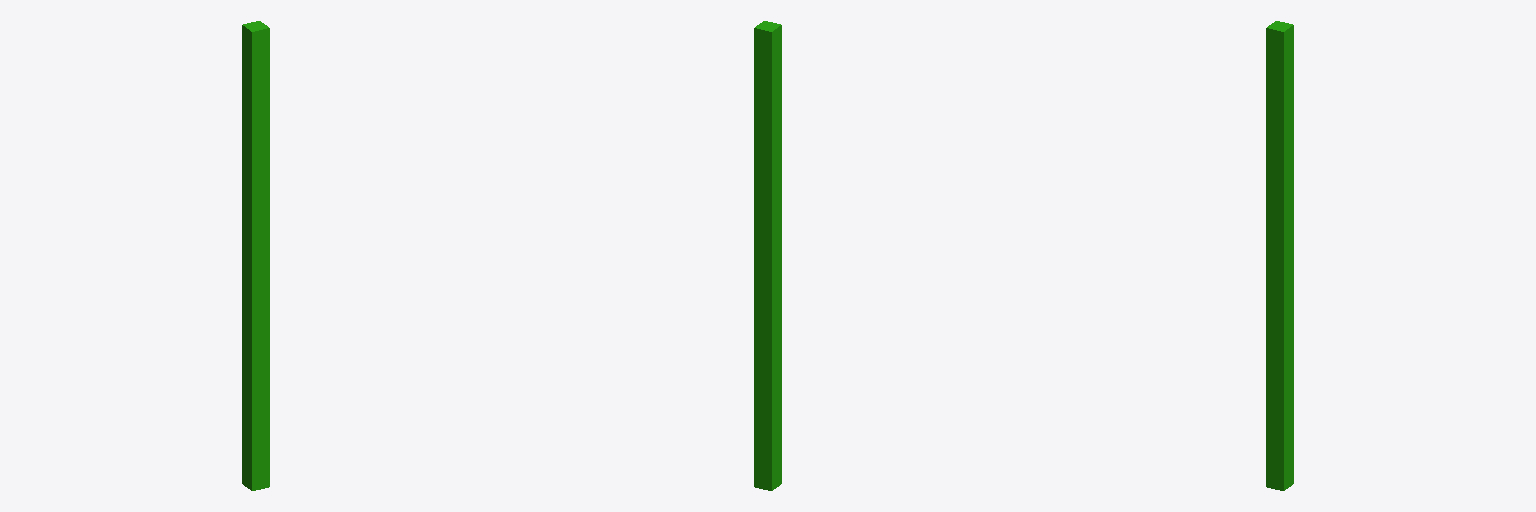
The robot description file, URDF, robot "pole":
<?xml version="1.0"?>
<robot name="pole">
  <link name="baseLink">
    <contact>
      <lateral_friction value="1.0"/>
      <rolling_friction value="0.0"/>
      <inertia_scaling value="3.0"/>
      <contact_cfm value="0.0"/>
      <contact_erp value="1.0"/>
    </contact>
    <inertial>
      <origin rpy="0 0 0" xyz="0 0 0"/>
      <mass value="5"/>
      <inertia ixx="1" ixy="0" ixz="0" iyy="1" iyz="0" izz="1"/>
    </inertial>
    <visual>
      <origin rpy="0 0 0" xyz="0.0 0.0 0.0"/>
      <geometry>
        <box size="0.02 0.02 0.5"/>
      </geometry>
      <material name="blockmat">
        <color rgba="0.2 0.7 0.1 1"/>
      </material>
    </visual>
    <collision>
      <origin rpy="0 0 0" xyz="0.0 0.0 0.0"/>
      <geometry>
        <box size="0.02 0.02 0.5"/>
      </geometry>
    </collision>
  </link>
</robot>

--- What the picture shows (computed from the rendered views, not written in the file) ---
The picture shows the robot from 3 angles, left to right: view 1: azimuth 30°, elevation 25°; view 2: azimuth 150°, elevation 25°; view 3: azimuth 330°, elevation 25°; orthographic projection.
Robot: pole — 1 links, 0 joints (none); root link baseLink; default pose: every joint at zero.
Links seen in each view (by area): view 1: baseLink; view 2: baseLink; view 3: baseLink.
Link boxes in pixels (bbox=[...]): baseLink: bbox=[242, 21, 269, 490]; baseLink: bbox=[754, 21, 781, 490]; baseLink: bbox=[1266, 21, 1293, 490].
Size in the robot's own frame: 0.02 by 0.02 by 0.5 metres.
Geometry: primitives only (box / cylinder / sphere), no mesh files.